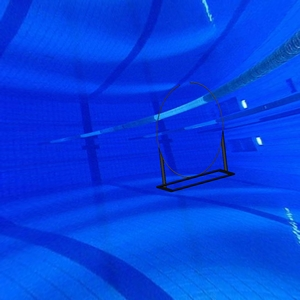circle: (156, 80, 237, 194)
